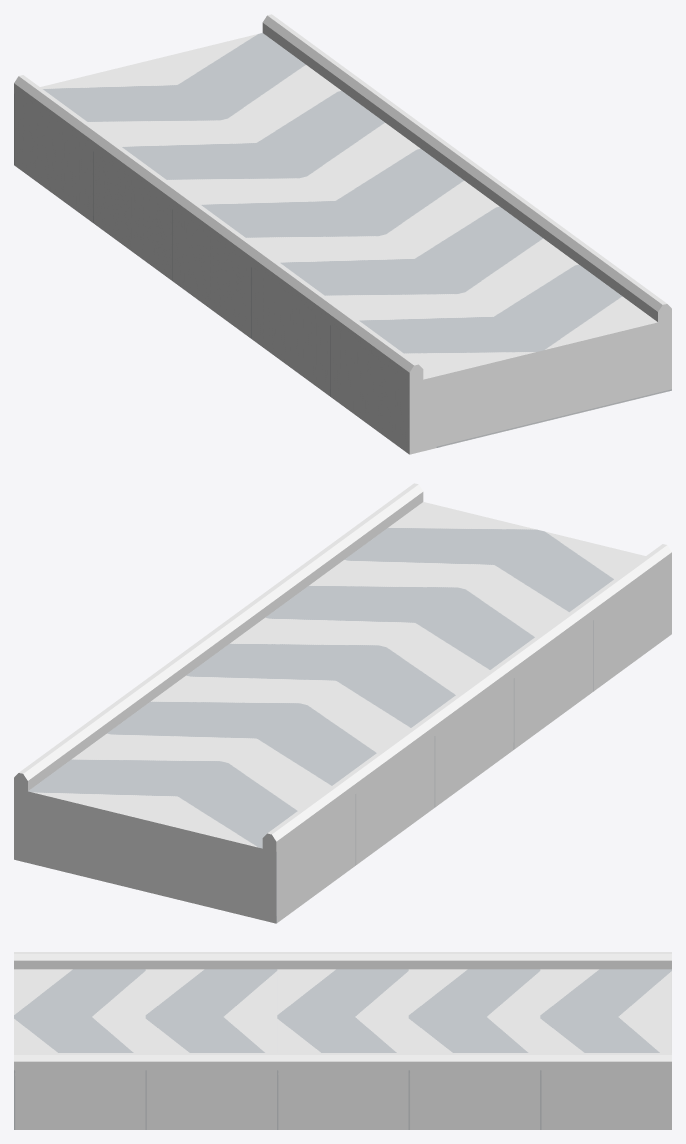
File: Road.fbx
3 views of the same model, one above another, from view 1: azimuth 30°, elevation 25°; view 2: azimuth 150°, elevation 25°; view 3: azimuth 270°, elevation 25° (orthographic). The views are drawn at different scales.
Parts seen in each view (by area): view 1: Cube; view 2: Cube; view 3: Cube.
Boxes of the visible parts, x1,y1,x2,y2 form: Cube: (14, 14, 671, 454); Cube: (14, 483, 671, 923); Cube: (14, 952, 671, 1129).
Size of the model in its own units: 766 by 246 by 2000.
